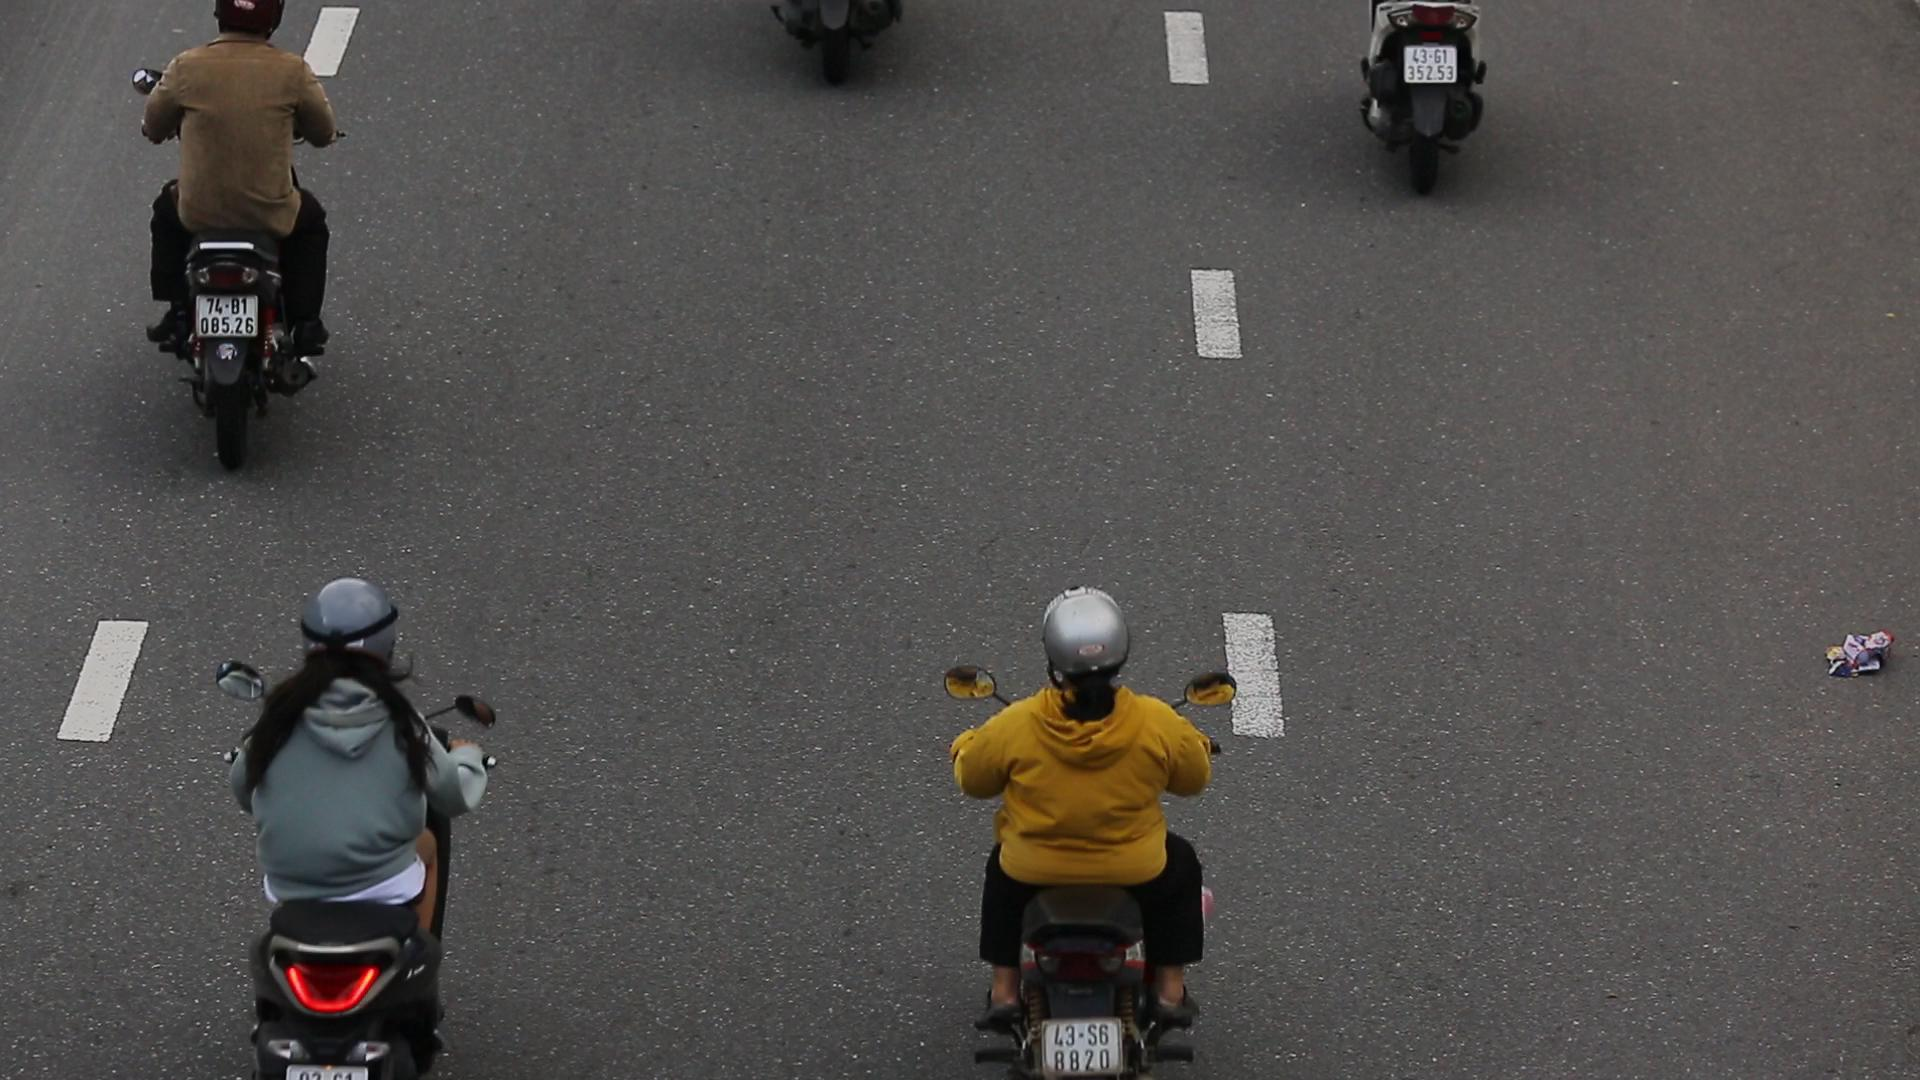motobike: (942, 550, 1245, 1080)
